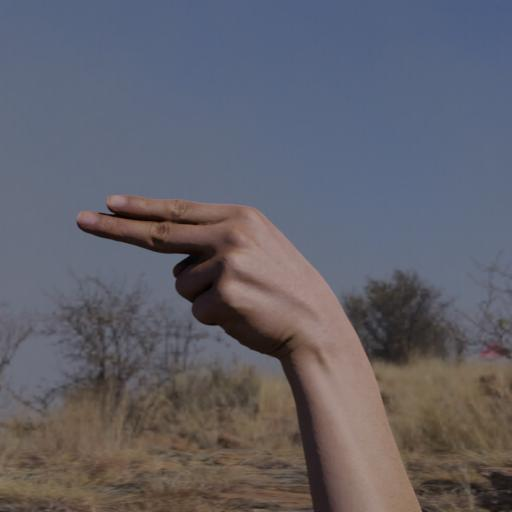H: (65, 187, 364, 369)
